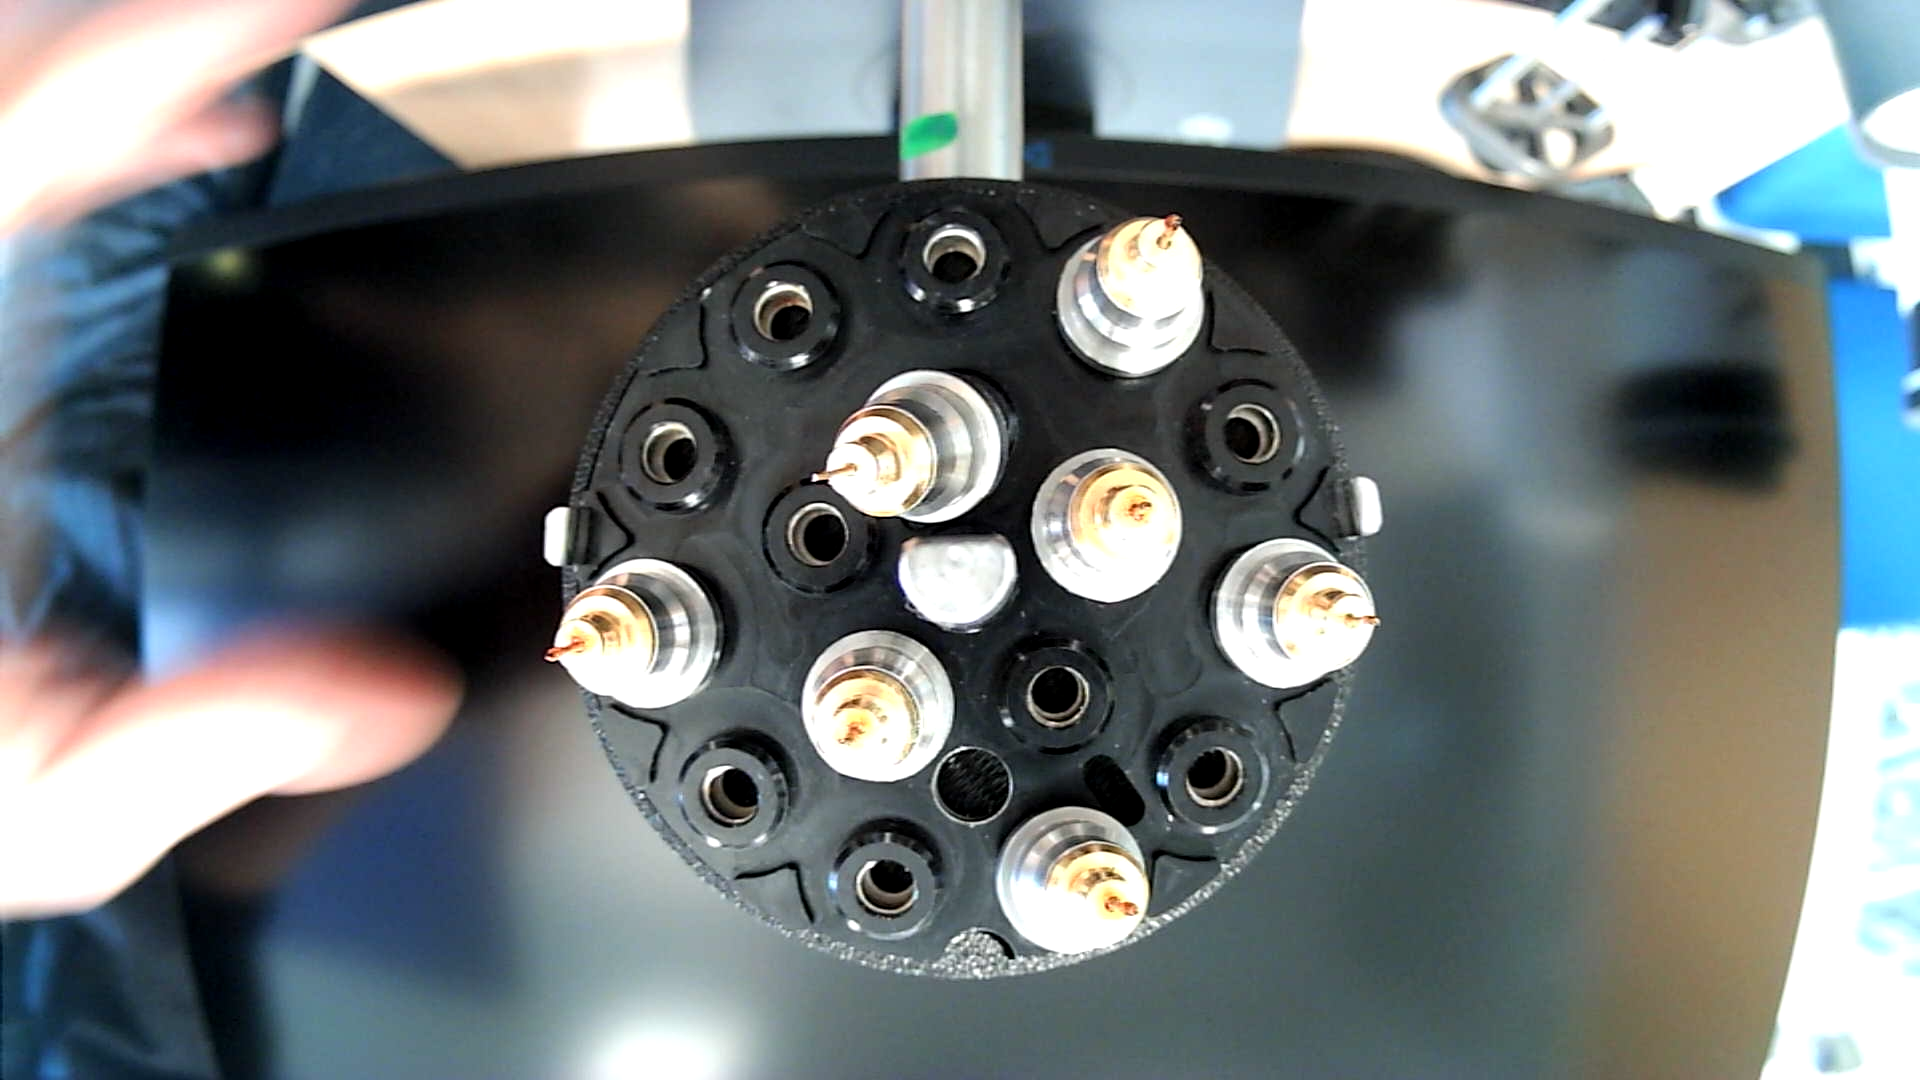empty: (890, 202, 1018, 334), (1149, 715, 1280, 840), (824, 816, 951, 945), (673, 727, 803, 852), (992, 633, 1124, 757), (612, 398, 745, 517), (1185, 381, 1309, 502), (725, 260, 851, 378), (760, 477, 880, 599)
hole: (927, 742, 1015, 829)
misplaced: (806, 367, 1021, 526)
pin: (543, 555, 725, 715), (1209, 535, 1381, 692), (1054, 212, 1205, 384), (992, 804, 1154, 960), (800, 626, 956, 783), (1030, 448, 1184, 607)
rod: (894, 531, 1023, 636)
